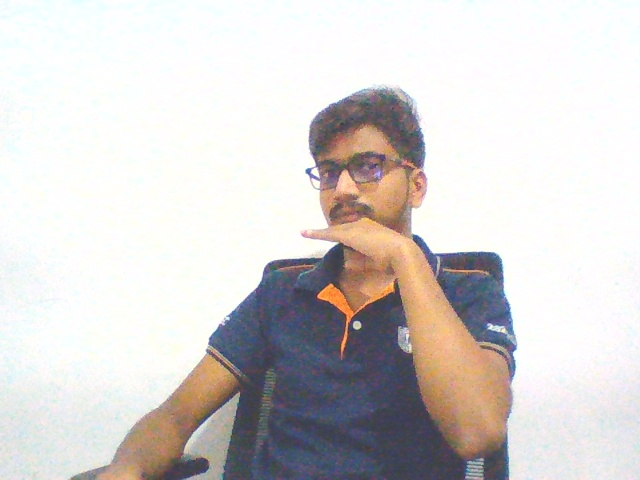elephant: (291, 208, 418, 274)
